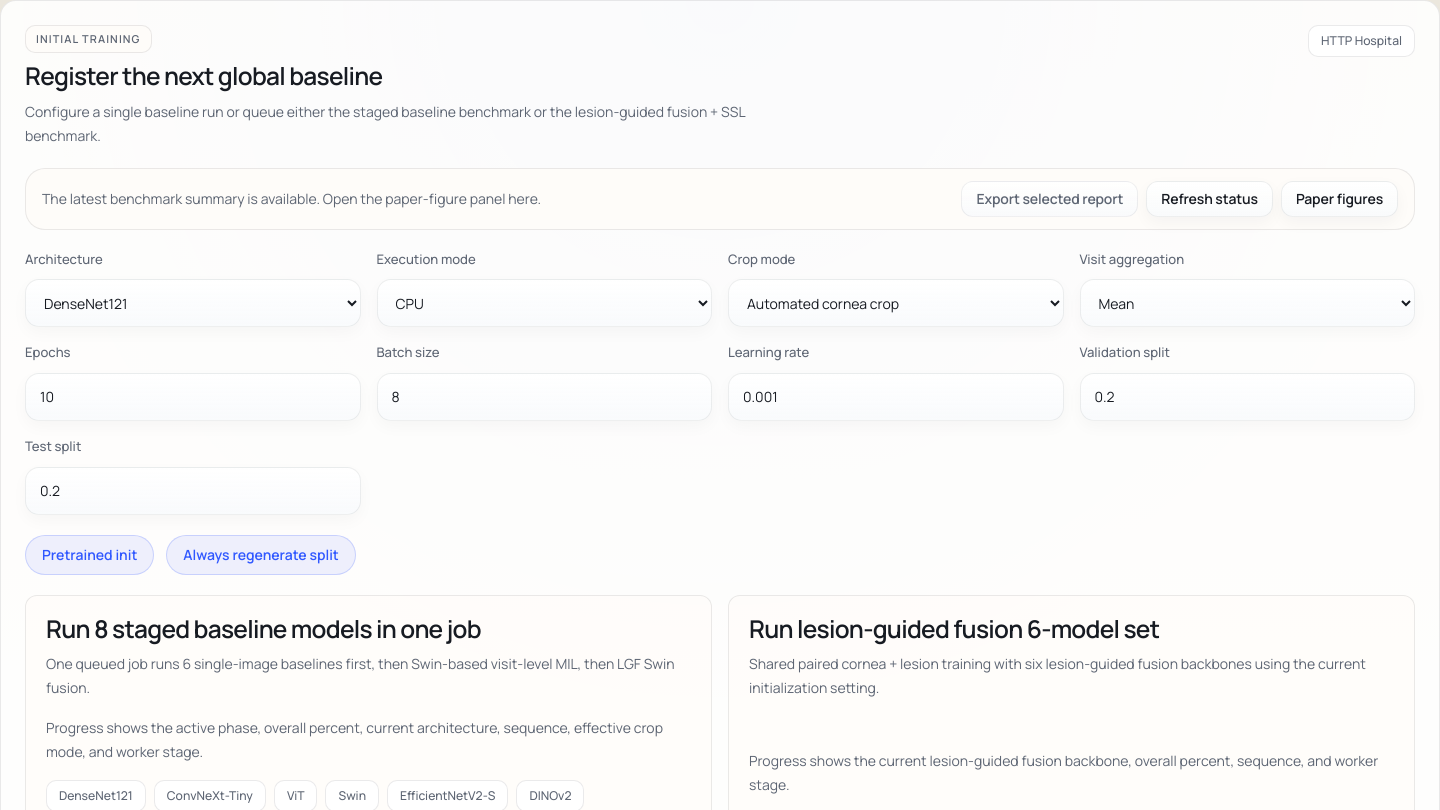
TrainingSection › opens the paper-ready benchmark figures panel from the benchmark summary
The width and height of the screenshot is (1440, 810).
Click the button "Paper figures".
click(1339, 199)  # box [1281,181,1398,217]
(page scrolled)
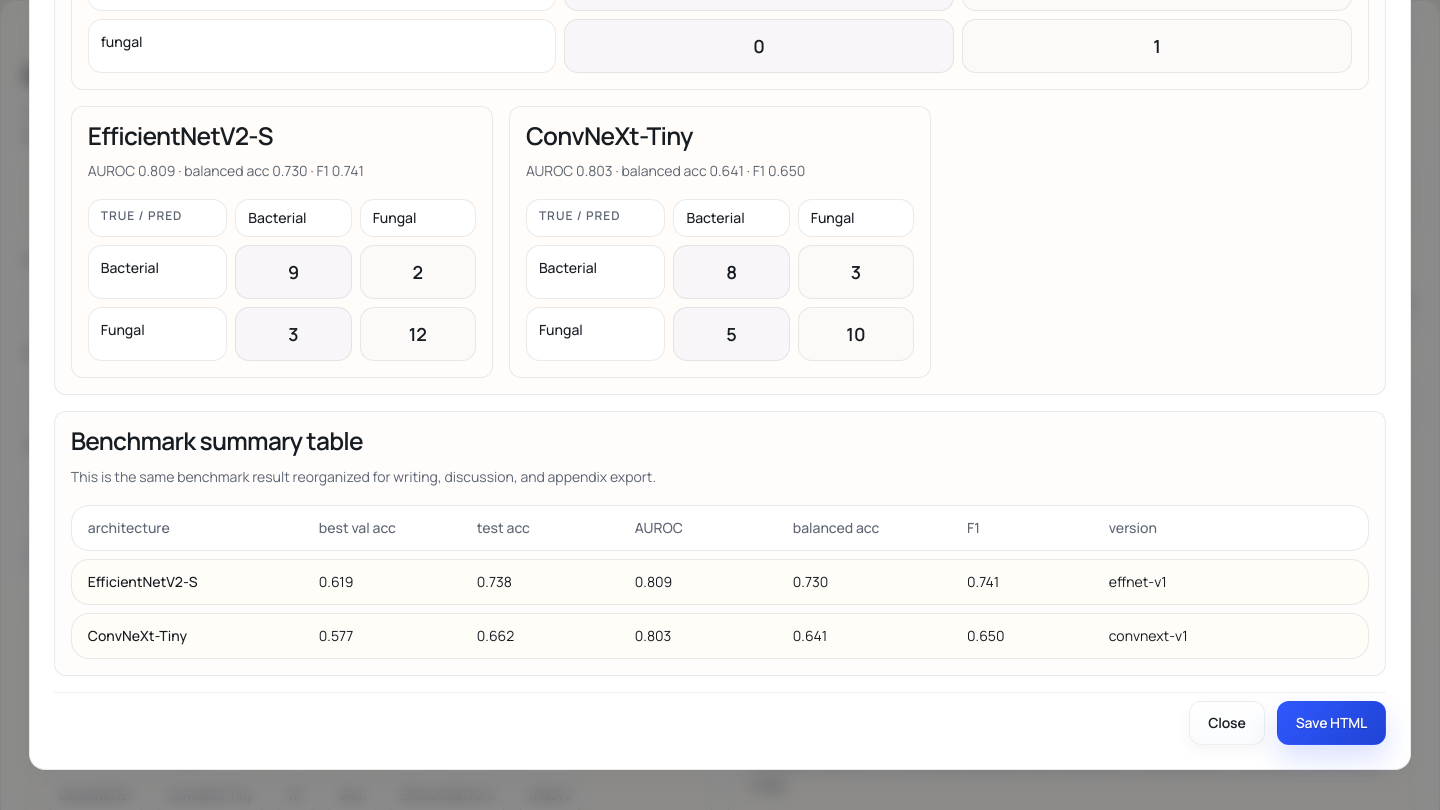
Check: the dialog "Paper-ready benchmark figures" is shown
Check: the heading "Benchmark summary table" is shown, box [71,424,363,457]
